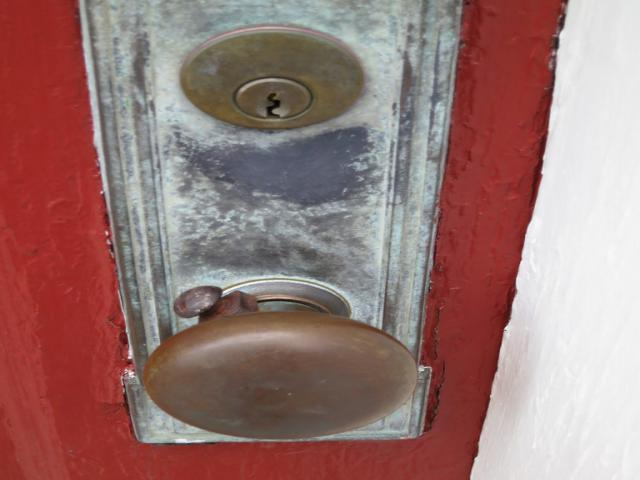Door-handle: (79, 0, 465, 447)
